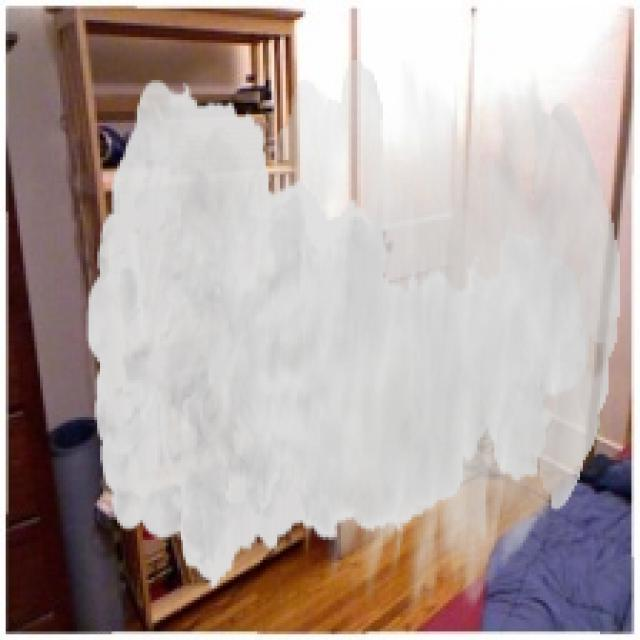smoke: (86, 60, 620, 611)
